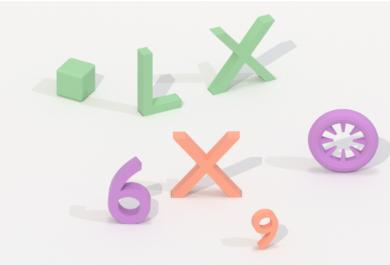0-KhoiVuong: (52, 54, 99, 105)
0-TronLo: (304, 105, 381, 177)
6: (104, 155, 154, 227)
9: (248, 206, 283, 252)
L: (132, 44, 185, 122)
X: (204, 12, 280, 98), (170, 127, 247, 202)
